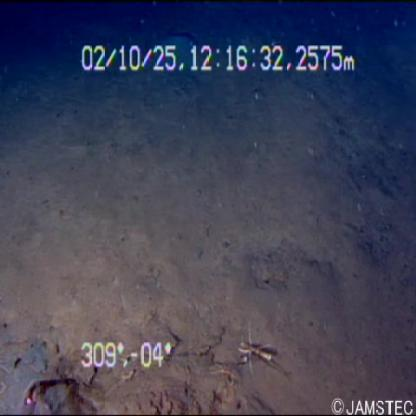Rác: (14, 375, 96, 415)
